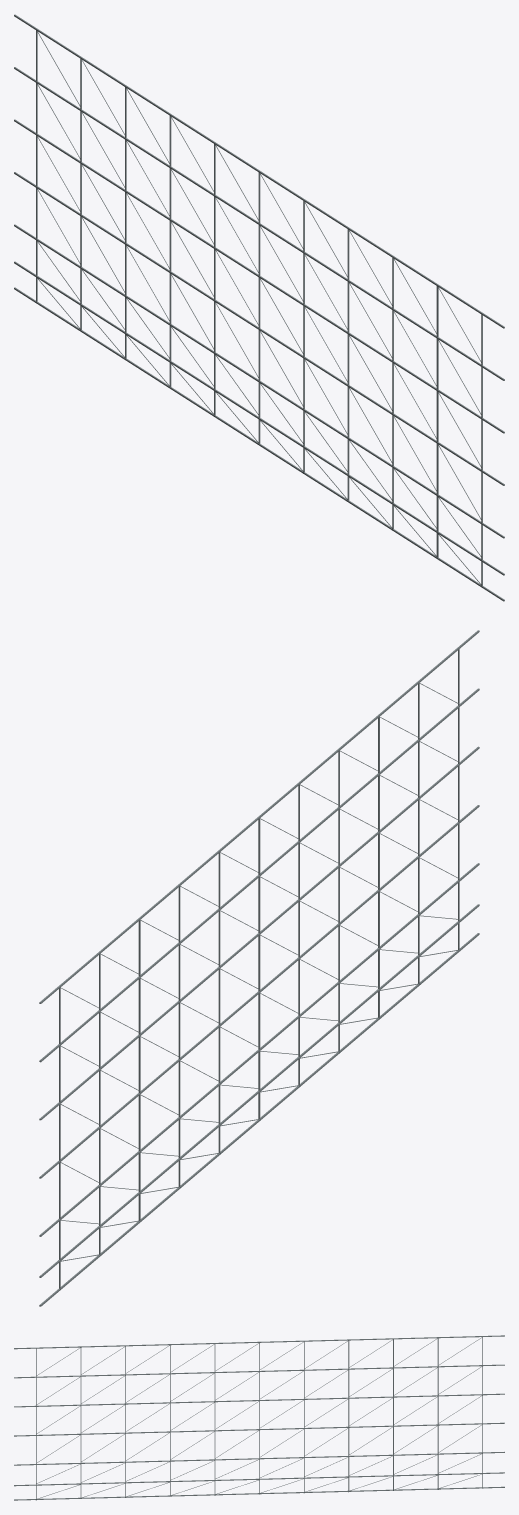
Rendered from G7_MiddleExterior_E12_r001.glb.
3 renders of one model, top to bottom at view 1: azimuth 30°, elevation 25°; view 2: azimuth 150°, elevation 25°; view 3: azimuth 270°, elevation 25°, orthographic. The views are drawn at different scales.
Parts seen in each view (by area): view 1: G7_MiddleExterior_E12_frame; view 2: G7_MiddleExterior_E12_frame; view 3: G7_MiddleExterior_E12_frame.
Boxes of the visible parts, left/top/right/bottom form: G7_MiddleExterior_E12_frame: left=14, top=14, right=504, bottom=601; G7_MiddleExterior_E12_frame: left=39, top=630, right=479, bottom=1306; G7_MiddleExterior_E12_frame: left=14, top=1335, right=504, bottom=1500.
Size of the model in its own units: 8.21 by 44.5 by 130.
Materials: 2 (2 with a texture image).
